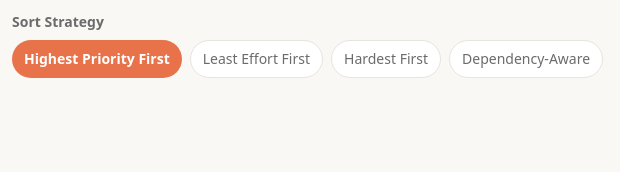
Test: StrategySelector › shows an error message when saving preference fails
Click the button with aria-label "Sort by Hardest First" at coordinates (386, 59), box [331,40,441,78]
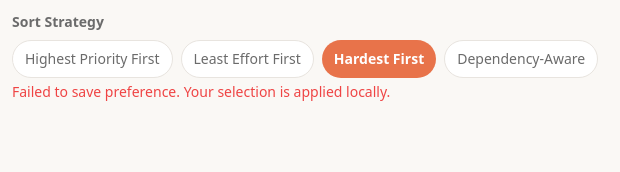
Expected: the text "Failed to save preference. Your selection is applied locally." is shown, [12,82,390,101]
